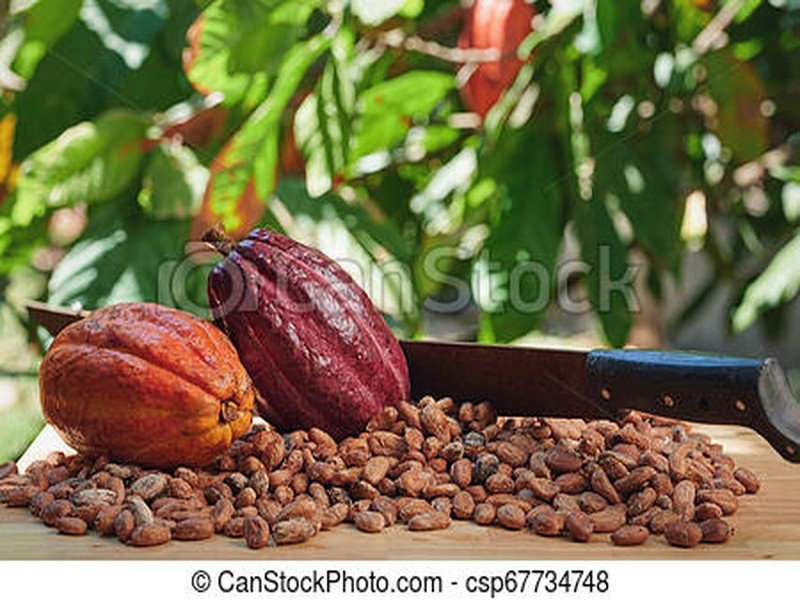Cacaopod: (205, 221, 411, 441), (28, 301, 251, 468)
